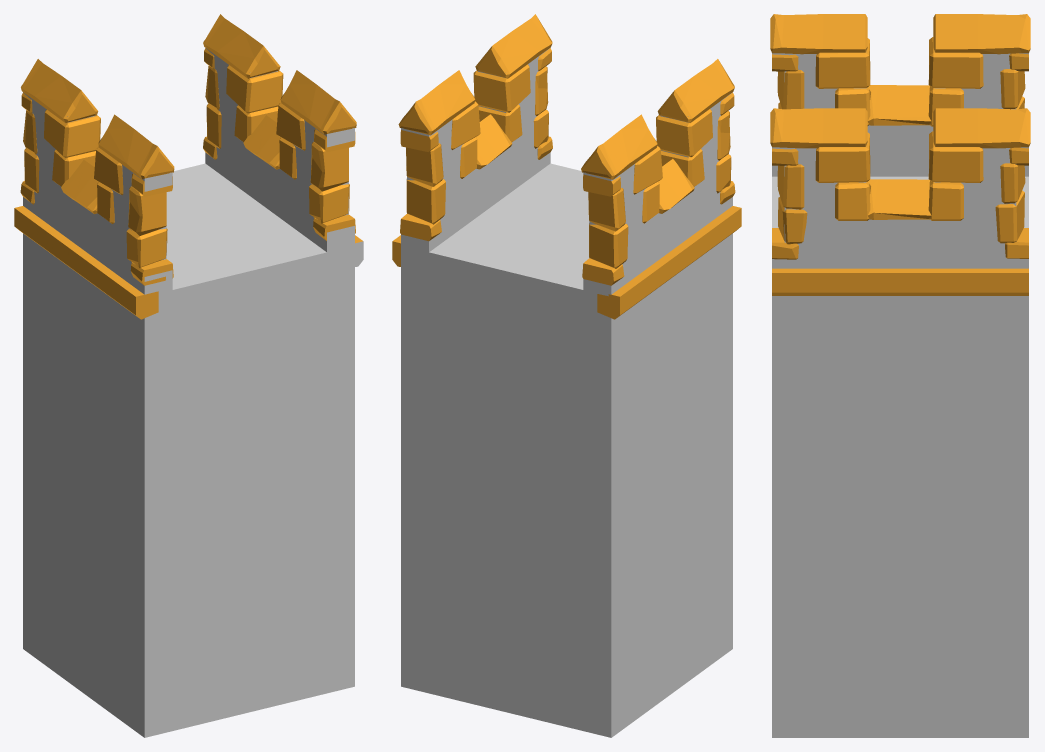
Rendered from SM_Rampart_3x6m_Battlement_Guard_Walk_A_Fantasy_Base.fbx.
3 renders of one model, left to right at view 1: azimuth 30°, elevation 25°; view 2: azimuth 150°, elevation 25°; view 3: azimuth 270°, elevation 25°, orthographic. The views are drawn at different scales.
Parts seen in each view (by area): view 1: SM_Rampart_3x6m_Battlement_Guard_Walk_A_Fantasy_Base; view 2: SM_Rampart_3x6m_Battlement_Guard_Walk_A_Fantasy_Base; view 3: SM_Rampart_3x6m_Battlement_Guard_Walk_A_Fantasy_Base.
Part boxes in pixels (left/top/right/bottom): SM_Rampart_3x6m_Battlement_Guard_Walk_A_Fantasy_Base: left=14, top=14, right=363, bottom=737; SM_Rampart_3x6m_Battlement_Guard_Walk_A_Fantasy_Base: left=392, top=14, right=741, bottom=737; SM_Rampart_3x6m_Battlement_Guard_Walk_A_Fantasy_Base: left=770, top=14, right=1030, bottom=737.
Size of the model in its own units: 3.25 by 8.01 by 3.03.
